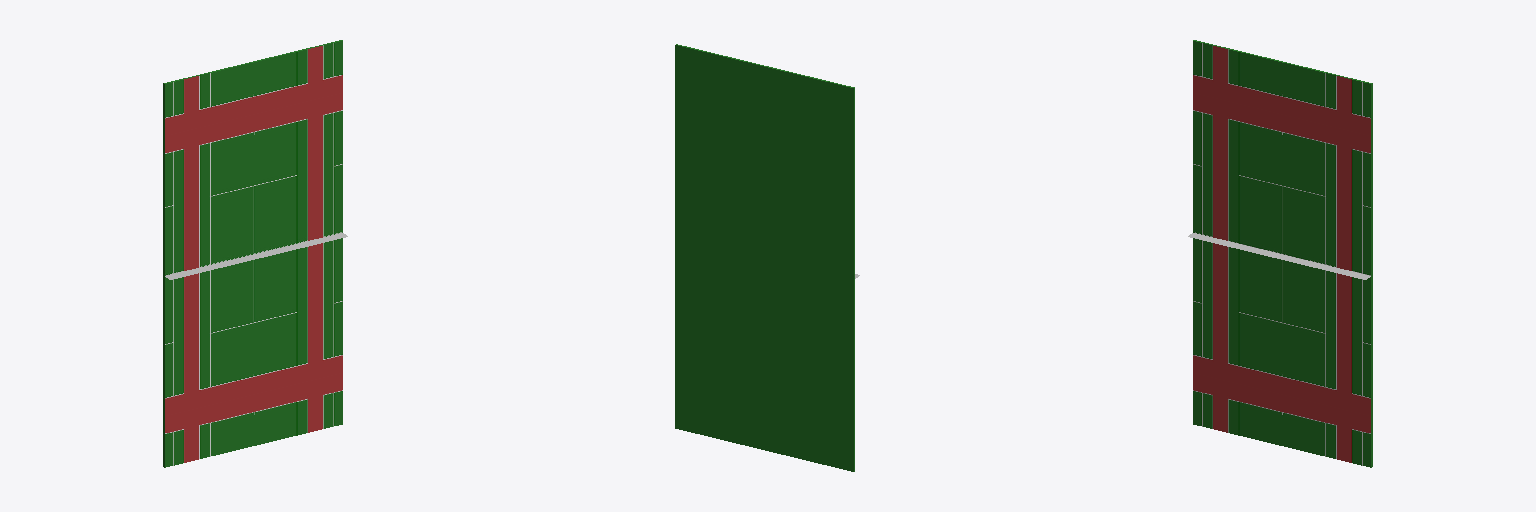
The picture shows the model from 3 angles: view 1: azimuth 30°, elevation 25°; view 2: azimuth 150°, elevation 25°; view 3: azimuth 330°, elevation 25°; orthographic projection.
Visible parts, largest first — view 1: Cube_Cube.001, Plane; view 2: Cube_Cube.001; view 3: Cube_Cube.001, Plane.
Boxes of the visible parts, box(x1,y1,x2,y2) form: Cube_Cube.001: box(163, 40, 342, 467); Plane: box(165, 233, 347, 279); Cube_Cube.001: box(675, 44, 854, 471); Cube_Cube.001: box(1193, 40, 1372, 467); Plane: box(1188, 233, 1370, 279).
Bounding box in the file's own units: 18 × 37 × 1.2.
2 materials, 1 textured.